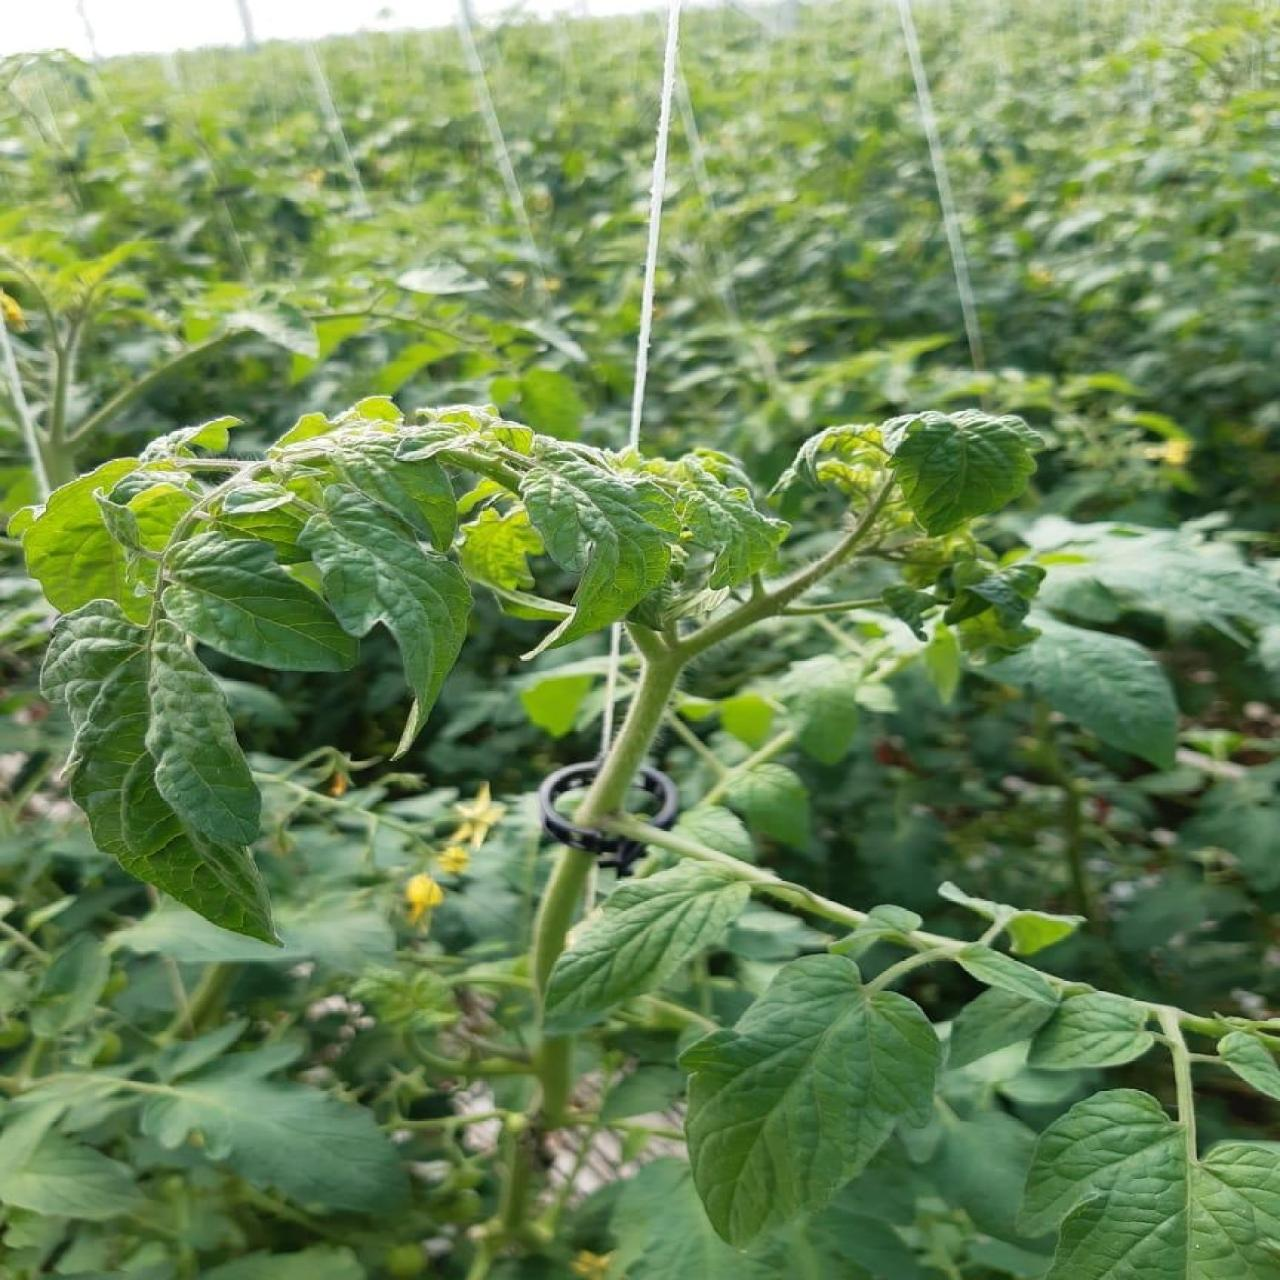T_L_H: (38, 600, 274, 944), (681, 956, 940, 1246), (297, 484, 469, 753), (520, 437, 678, 642), (549, 862, 751, 1019), (1019, 1091, 1186, 1280), (159, 532, 355, 672), (890, 409, 1044, 536), (1189, 1144, 1280, 1280), (1028, 994, 1155, 1071)
T_L_R: (678, 459, 791, 590)
T_S_H: (584, 626, 708, 822)
